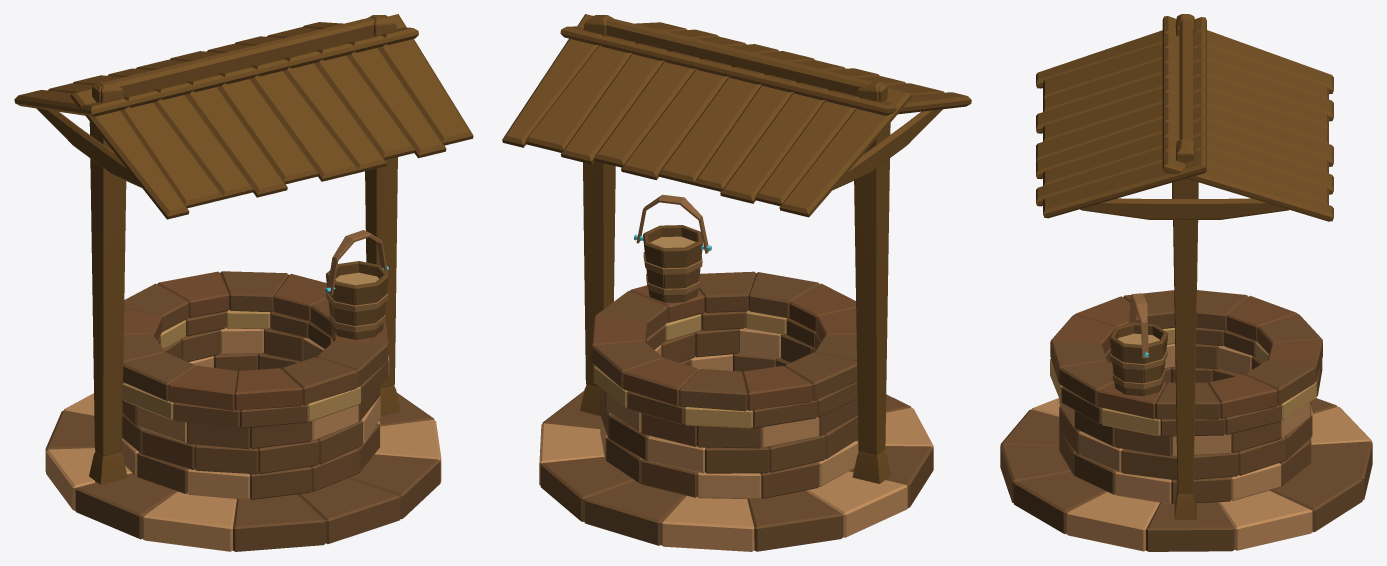
The model's file is props_91.gltf.
The picture shows the model from 3 angles, left to right: view 1: azimuth 30°, elevation 25°; view 2: azimuth 150°, elevation 25°; view 3: azimuth 270°, elevation 25°; orthographic projection. The views are drawn at different scales.
Parts seen in each view (by area): view 1: props_91; view 2: props_91; view 3: props_91.
Boxes of the visible parts, bbox=[...] form: props_91: bbox=[14, 14, 473, 551]; props_91: bbox=[502, 14, 971, 551]; props_91: bbox=[1000, 14, 1372, 551].
Size of the model in its own units: 2.87 by 3.38 by 2.88.
1 material, 1 textured.
